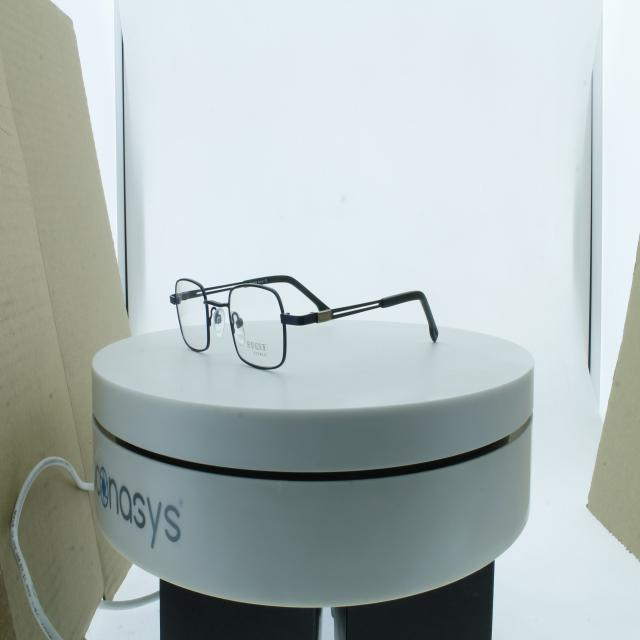Specs: (160, 220, 464, 376)
